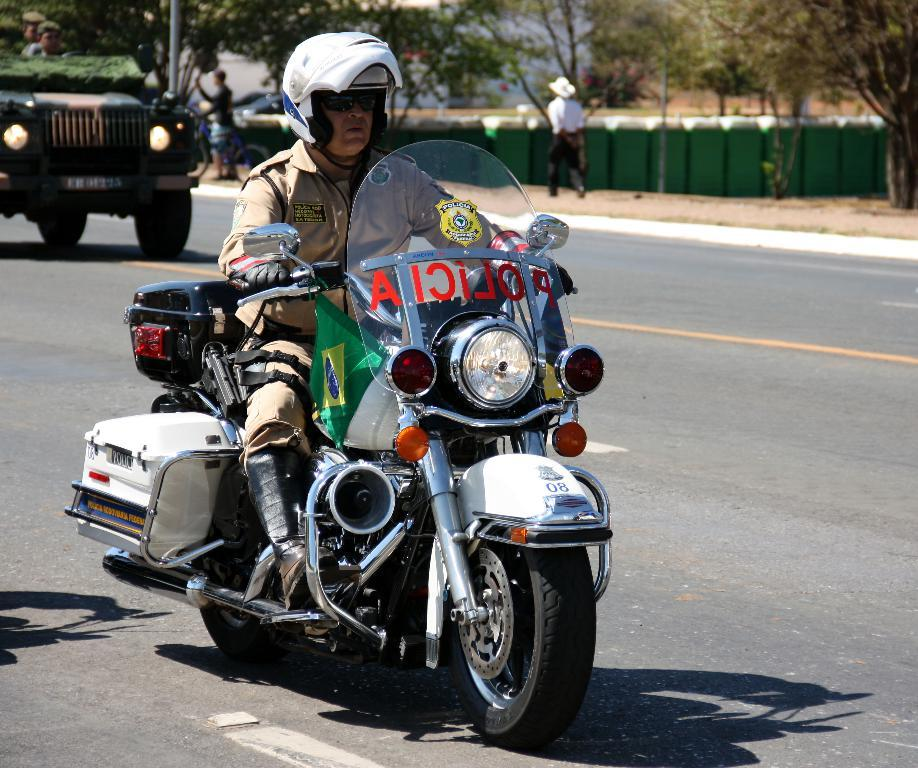helmet: (282, 31, 403, 150)
